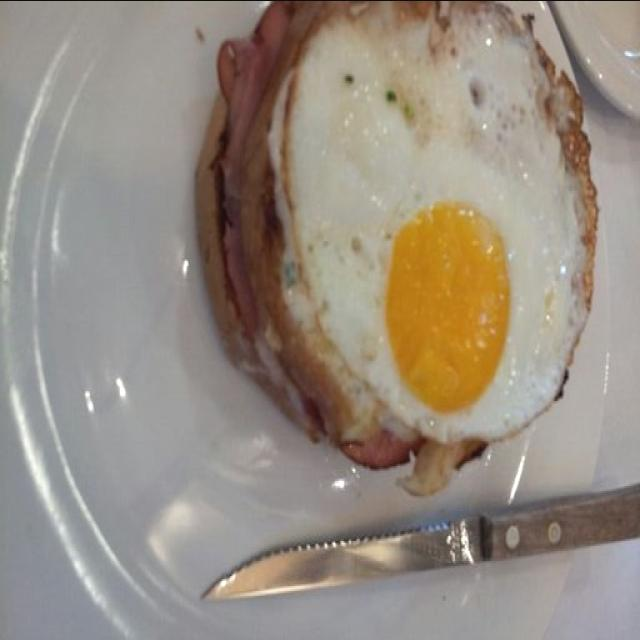telur ceplok: (268, 0, 596, 495)
